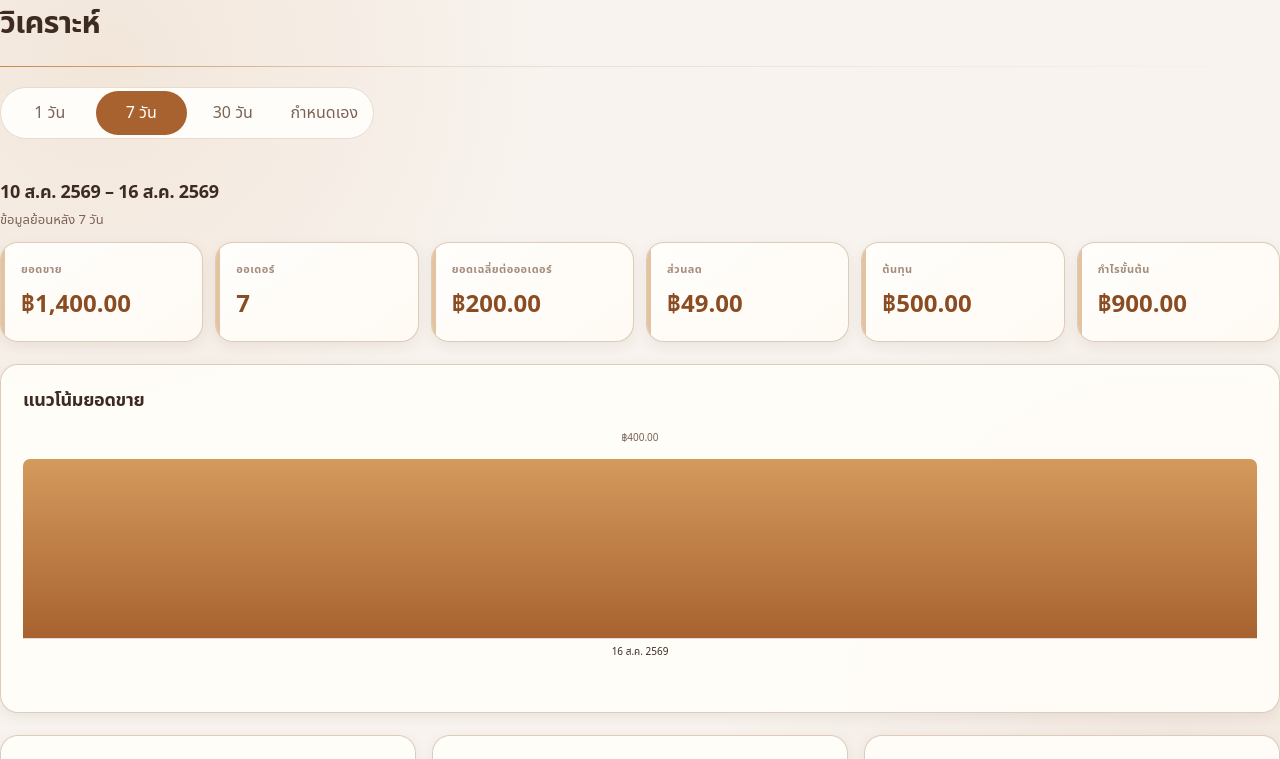
Test: AnalyticsPage › custom range › requests a chosen date range and labels its length
Click the button "กำหนดเอง" at (324, 113), box [278,91,370,135]
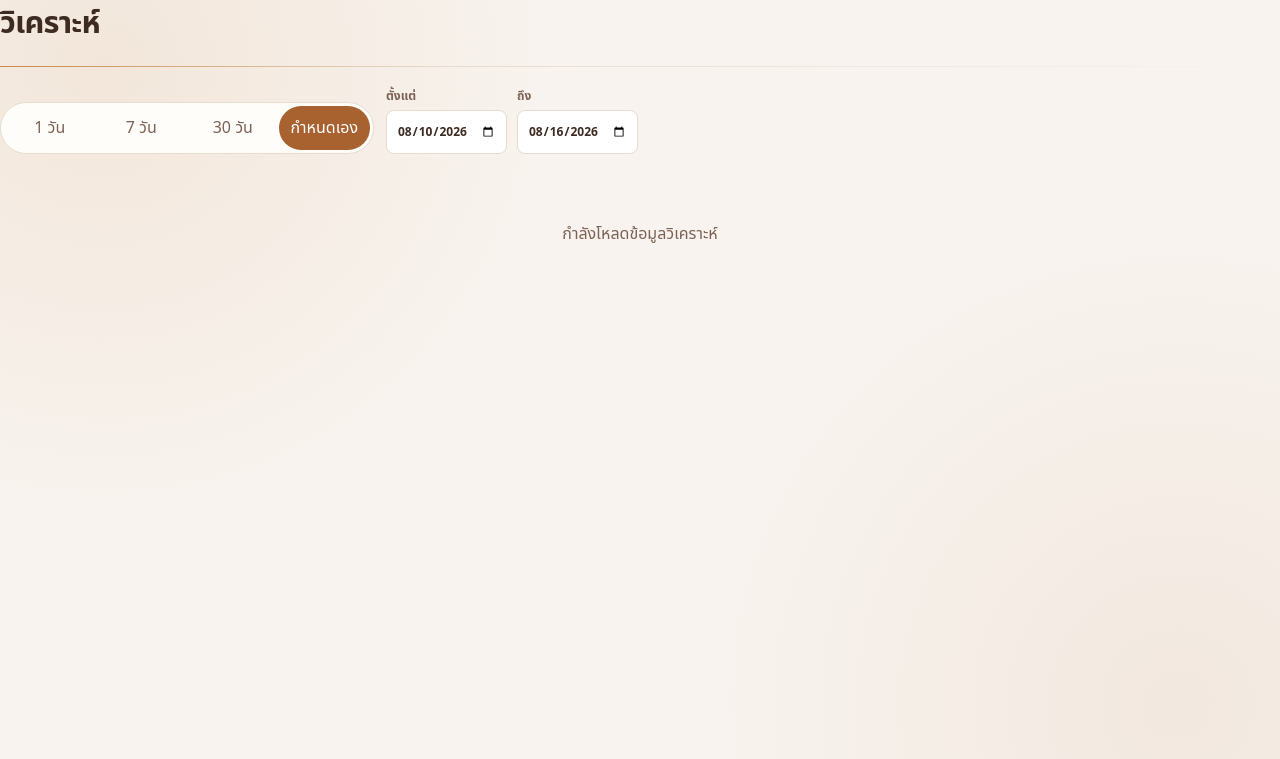
Result: the button "กำหนดเอง" is pressed at [278,106,370,150]
Type "2026-08-01" into the date field labelled "ตั้งแต่" at (446, 132), box [386,110,507,154]
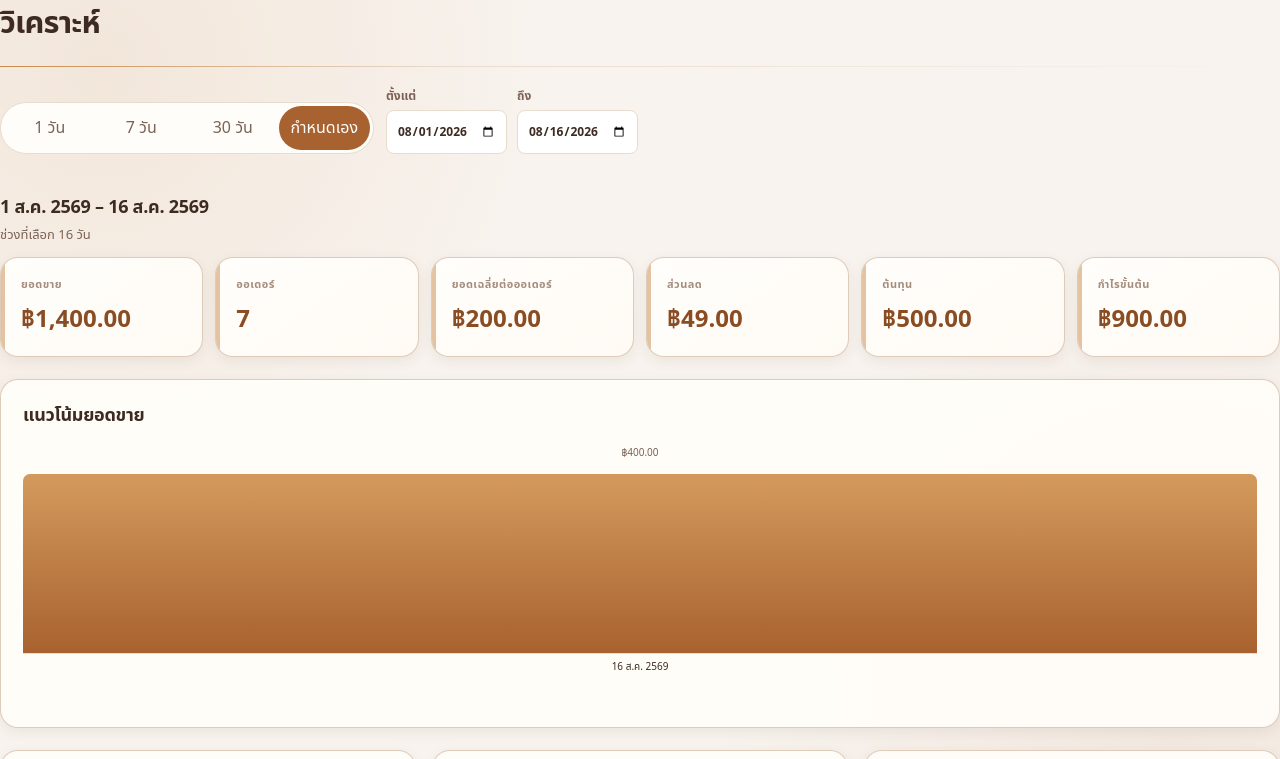
Result: the text "ช่วงที่เลือก 16 วัน" is shown at [0,225,91,245]
